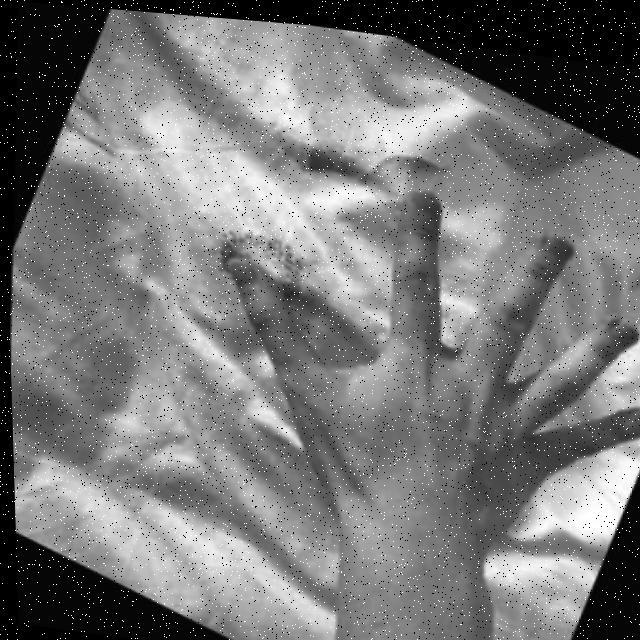no-gloves: (206, 156, 640, 545)
